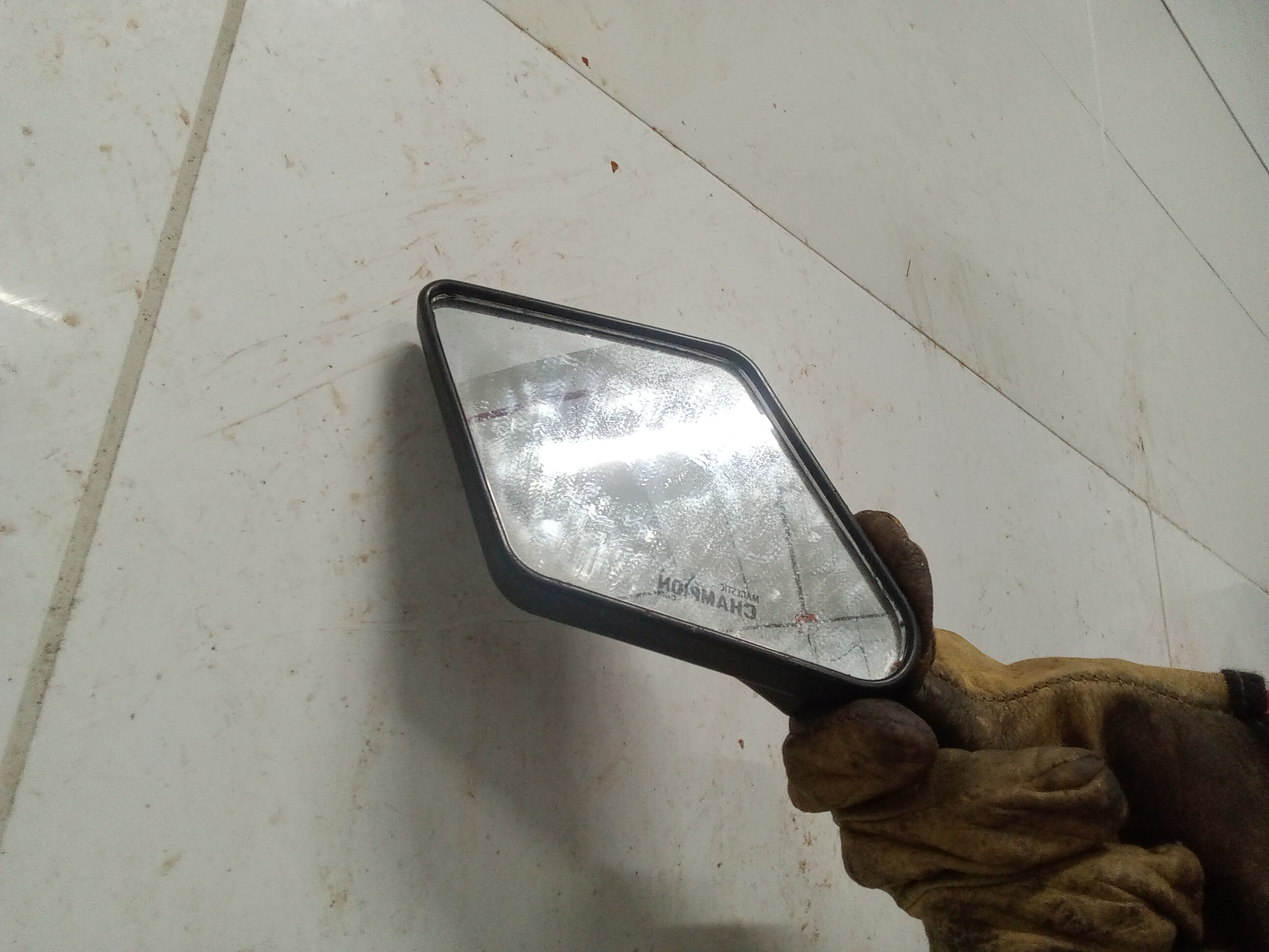Ordinario: (421, 280, 937, 698)
